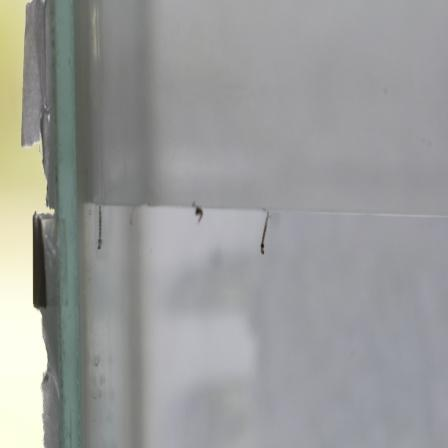Jentik-Nyamuk: (255, 209, 273, 256), (92, 200, 107, 253), (189, 204, 207, 226)
